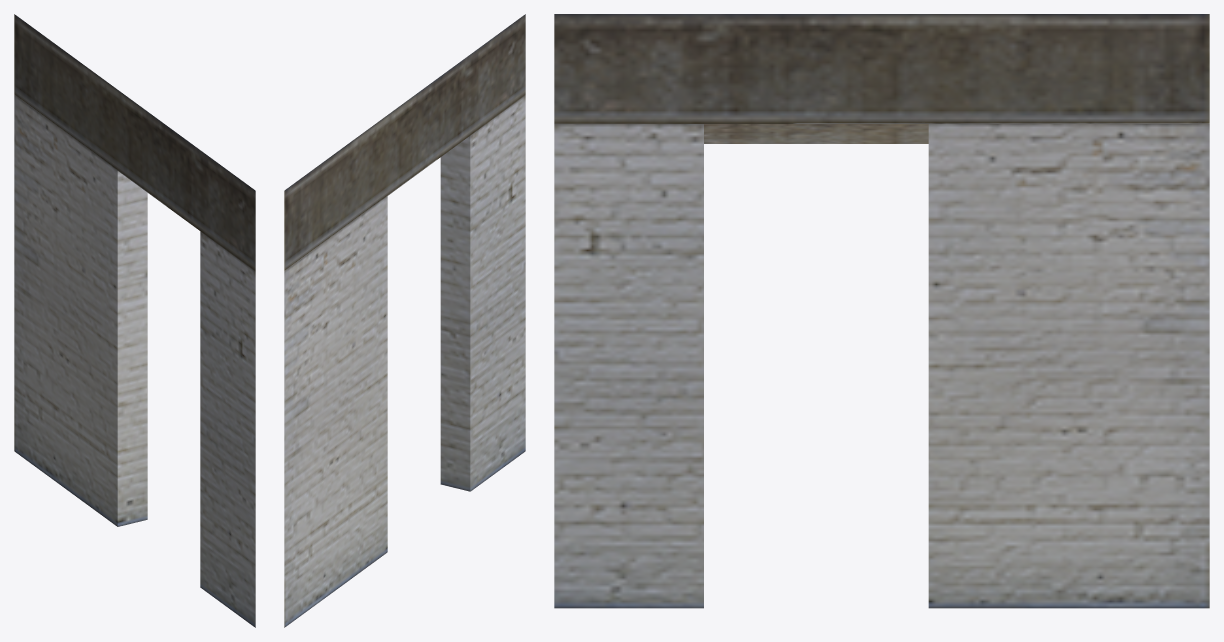
Rendered from men3.FBX.
3 renders of one model, left to right at view 1: azimuth 30°, elevation 25°; view 2: azimuth 150°, elevation 25°; view 3: azimuth 270°, elevation 25°, orthographic. The views are drawn at different scales.
Visible parts, largest first — view 1: Wall-SimpleBSmallDoor; view 2: Wall-SimpleBSmallDoor; view 3: Wall-SimpleBSmallDoor.
Boxes of the visible parts, x1,y1,x2,y2 form: Wall-SimpleBSmallDoor: (14,14,255,627); Wall-SimpleBSmallDoor: (284,14,525,627); Wall-SimpleBSmallDoor: (554,14,1209,608).
Size of the model in its own units: 25 by 350 by 350.
